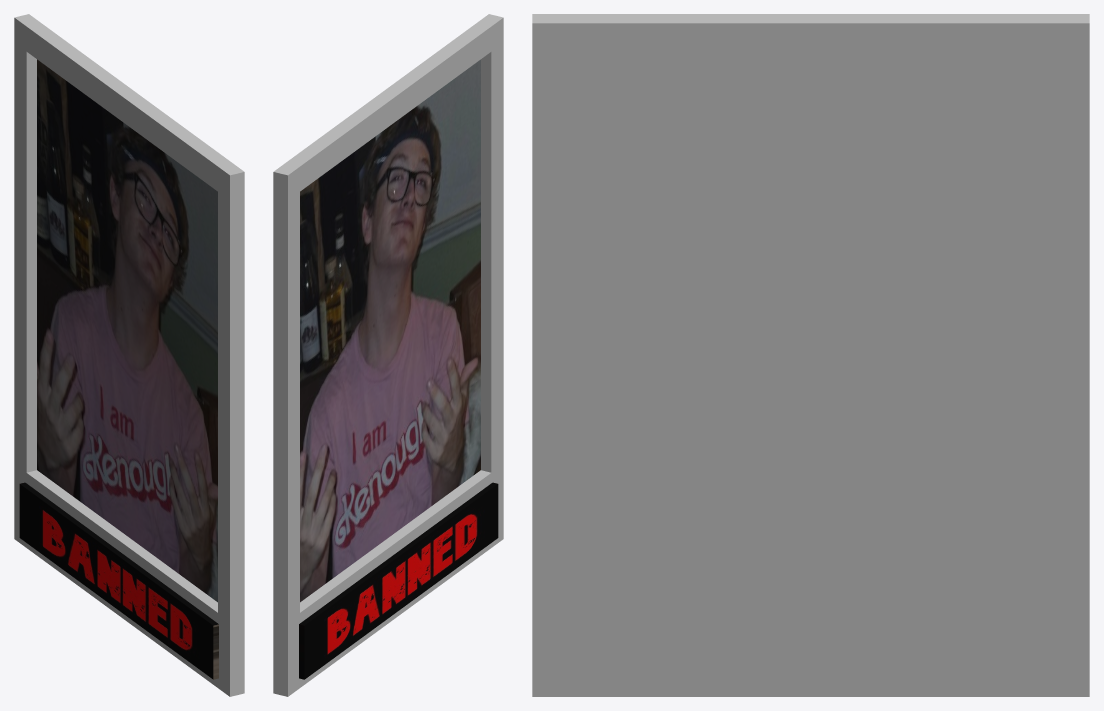
File: Banned_Frame.fbx
3 views of the same model, side by side, from view 1: azimuth 30°, elevation 25°; view 2: azimuth 150°, elevation 25°; view 3: azimuth 270°, elevation 25° (orthographic). The views are drawn at different scales.
Visible parts, largest first — view 1: Player Scale.001; view 2: Player Scale.001; view 3: Player Scale.001.
Boxes of the visible parts, <box> form: Player Scale.001: <box>14,14,244,696</box>; Player Scale.001: <box>273,14,503,696</box>; Player Scale.001: <box>532,14,1089,696</box>.
Size of the model in its own units: 21.67 by 534 by 400.
